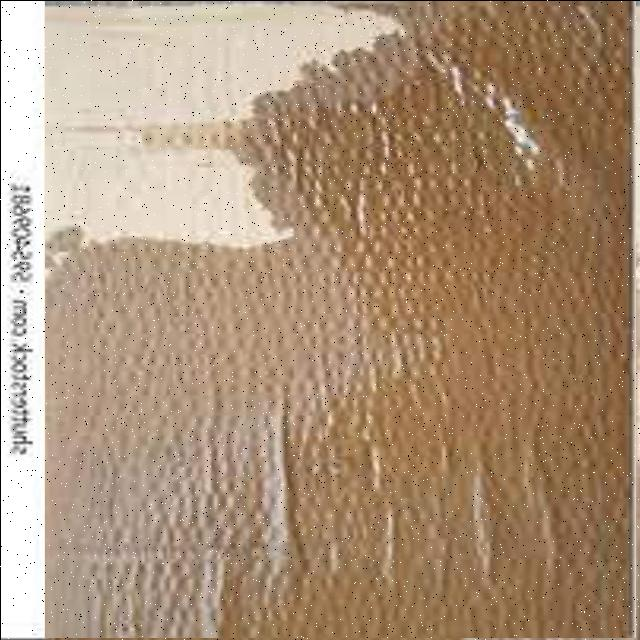defect: (44, 0, 635, 637)
